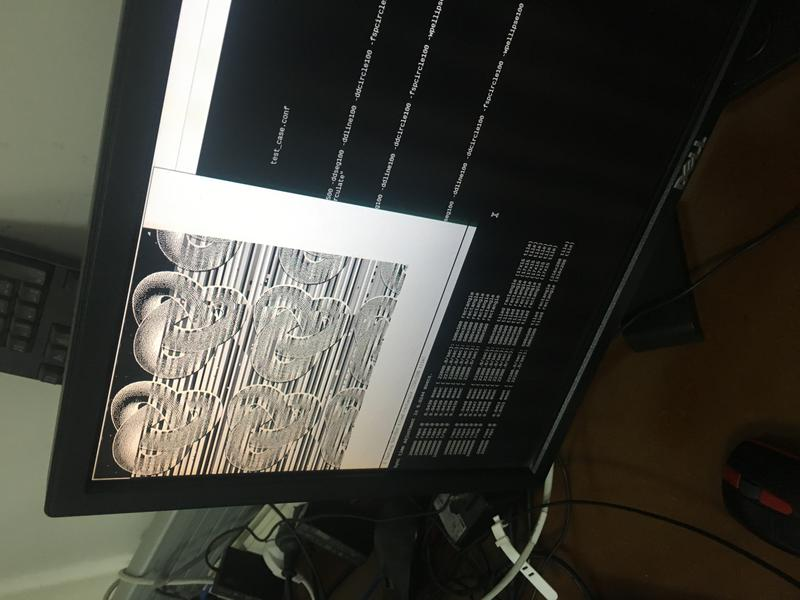xrandr_pass: (89, 155, 490, 486)
